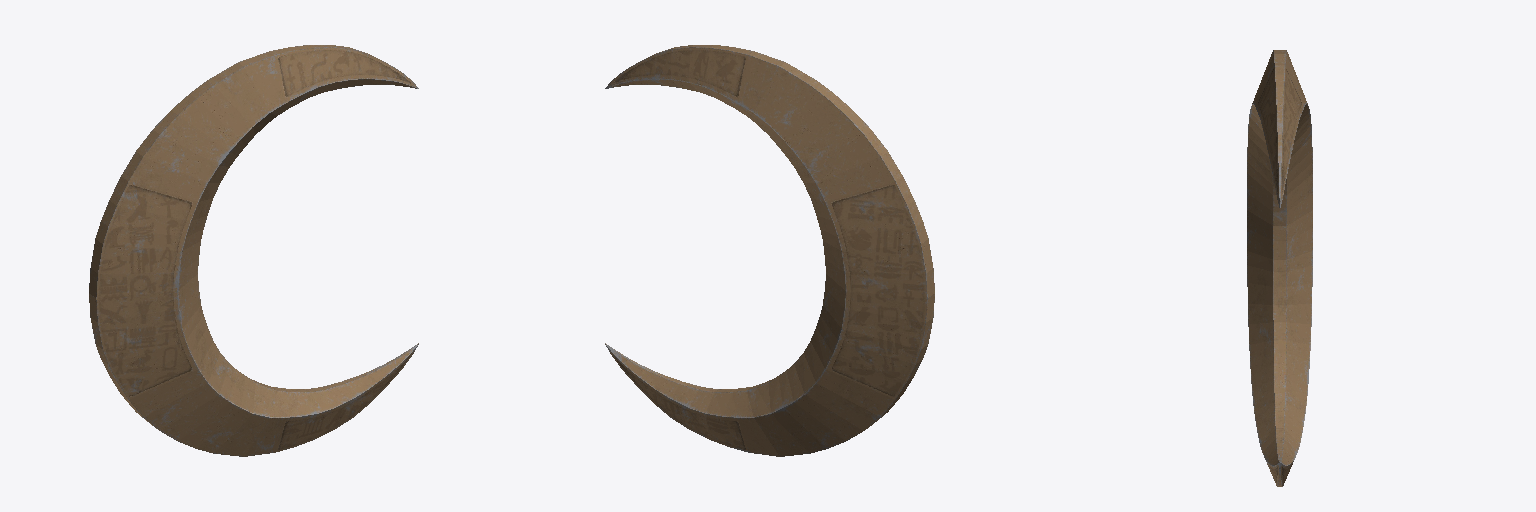
The picture shows the model from 3 angles: view 1: azimuth 30°, elevation 25°; view 2: azimuth 150°, elevation 25°; view 3: azimuth 270°, elevation 25°; orthographic projection.
Parts seen in each view (by area): view 1: Line002__0; view 2: Line002__0; view 3: Line002__0.
Boxes of the visible parts, box(x1,y1,x2,y2) form: Line002__0: box(89, 45, 418, 456); Line002__0: box(605, 45, 934, 456); Line002__0: box(1247, 50, 1312, 486).
Bounding box in the file's own units: 0.8671 × 1.01 × 0.1527.
Materials: 1 (1 with a texture image).